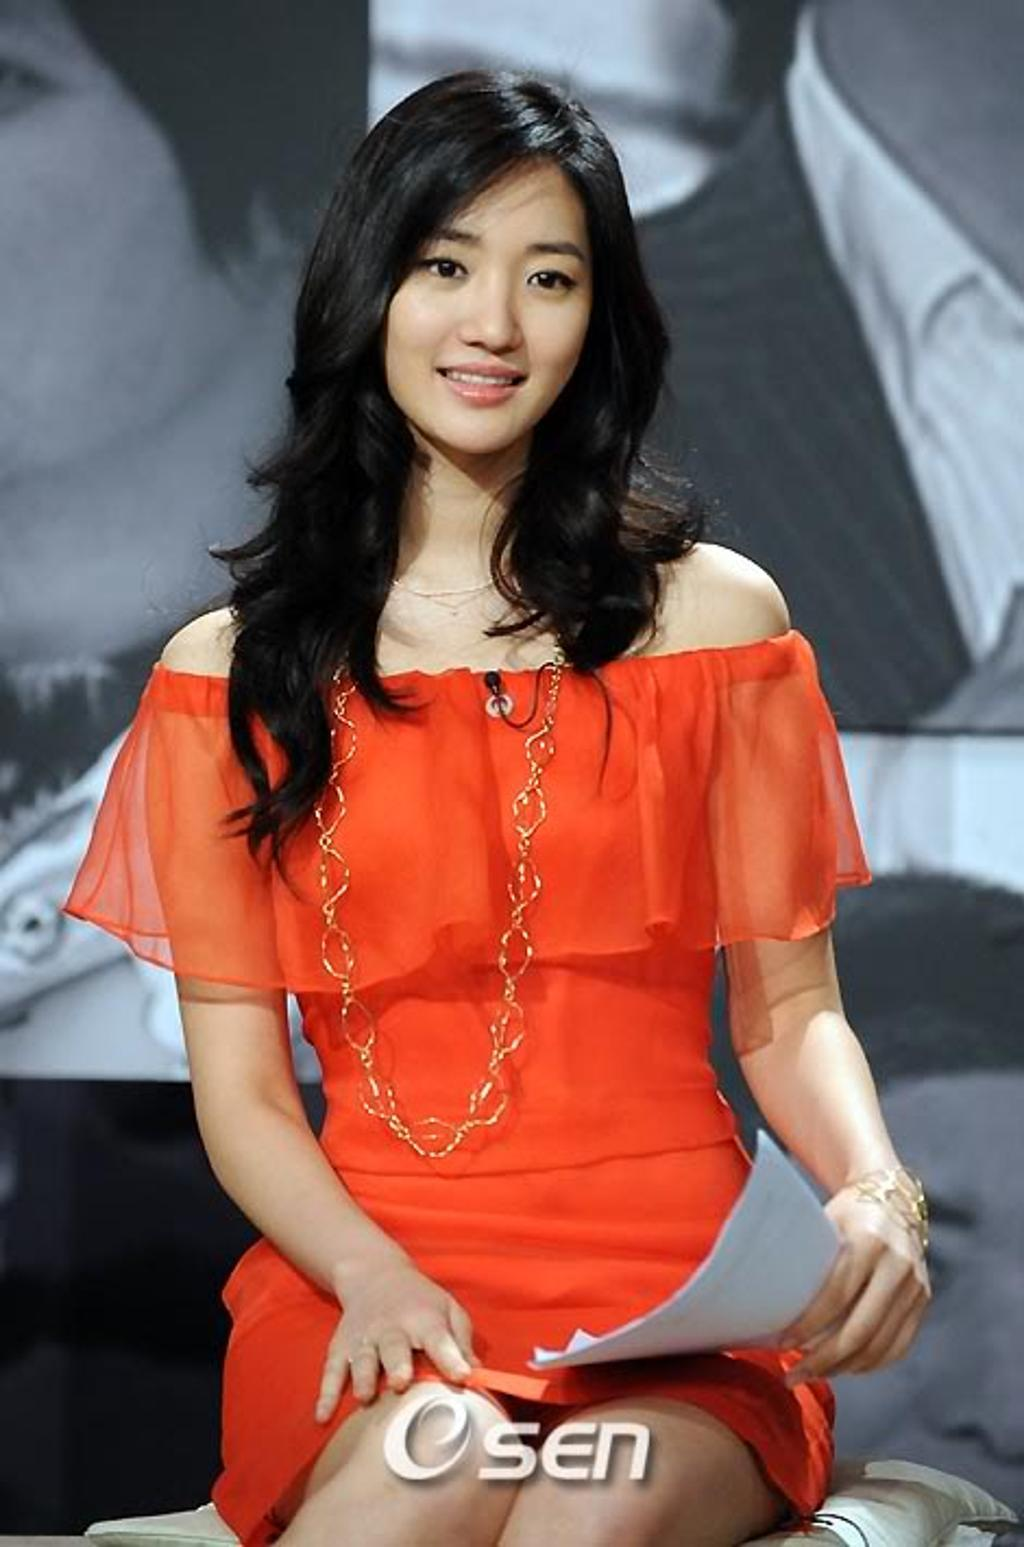face: (391, 155, 596, 454)
